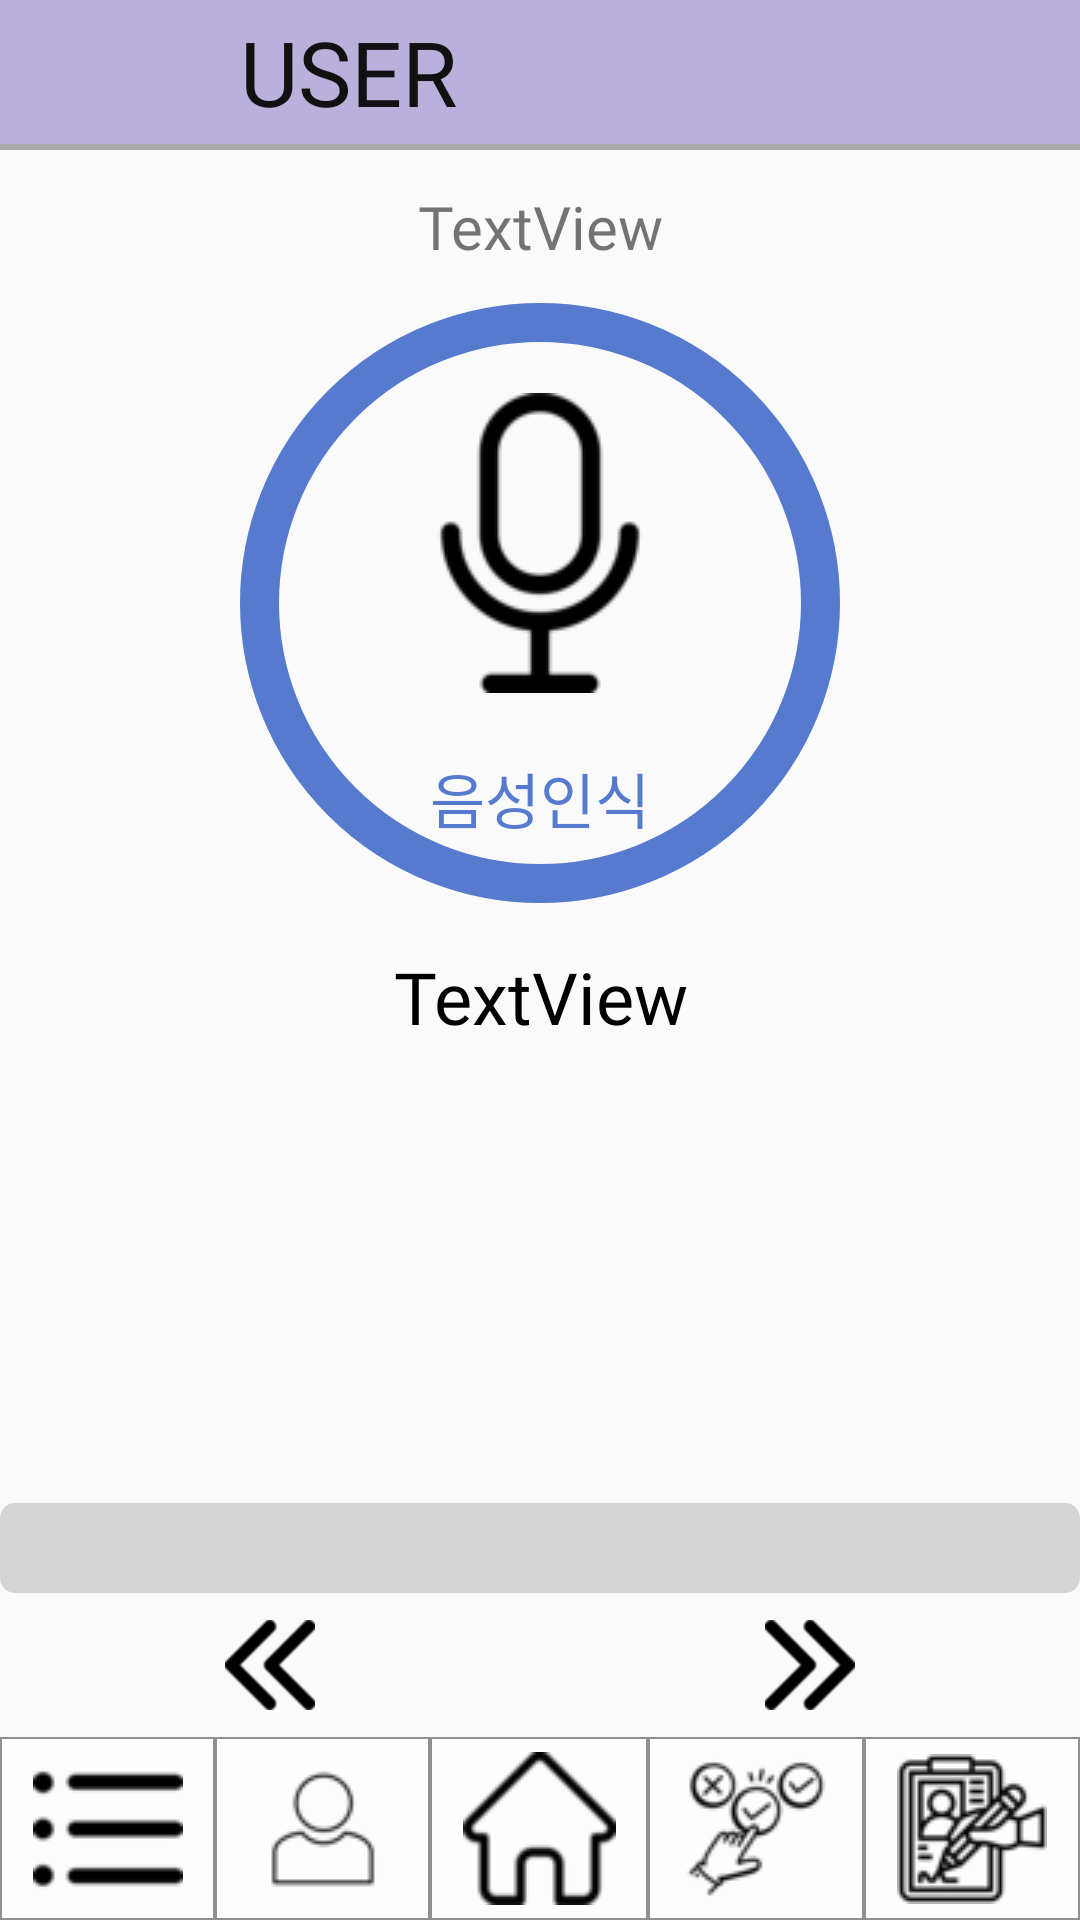

Screen size 1080px×1920px. Icon name, then its center in pixels as (x,y):
home: (539,1828)
list: (108,1829)
prefer: (756,1829)
user: (323,1829)
